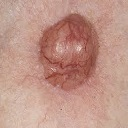Carcinoma: (39, 16, 103, 88)
